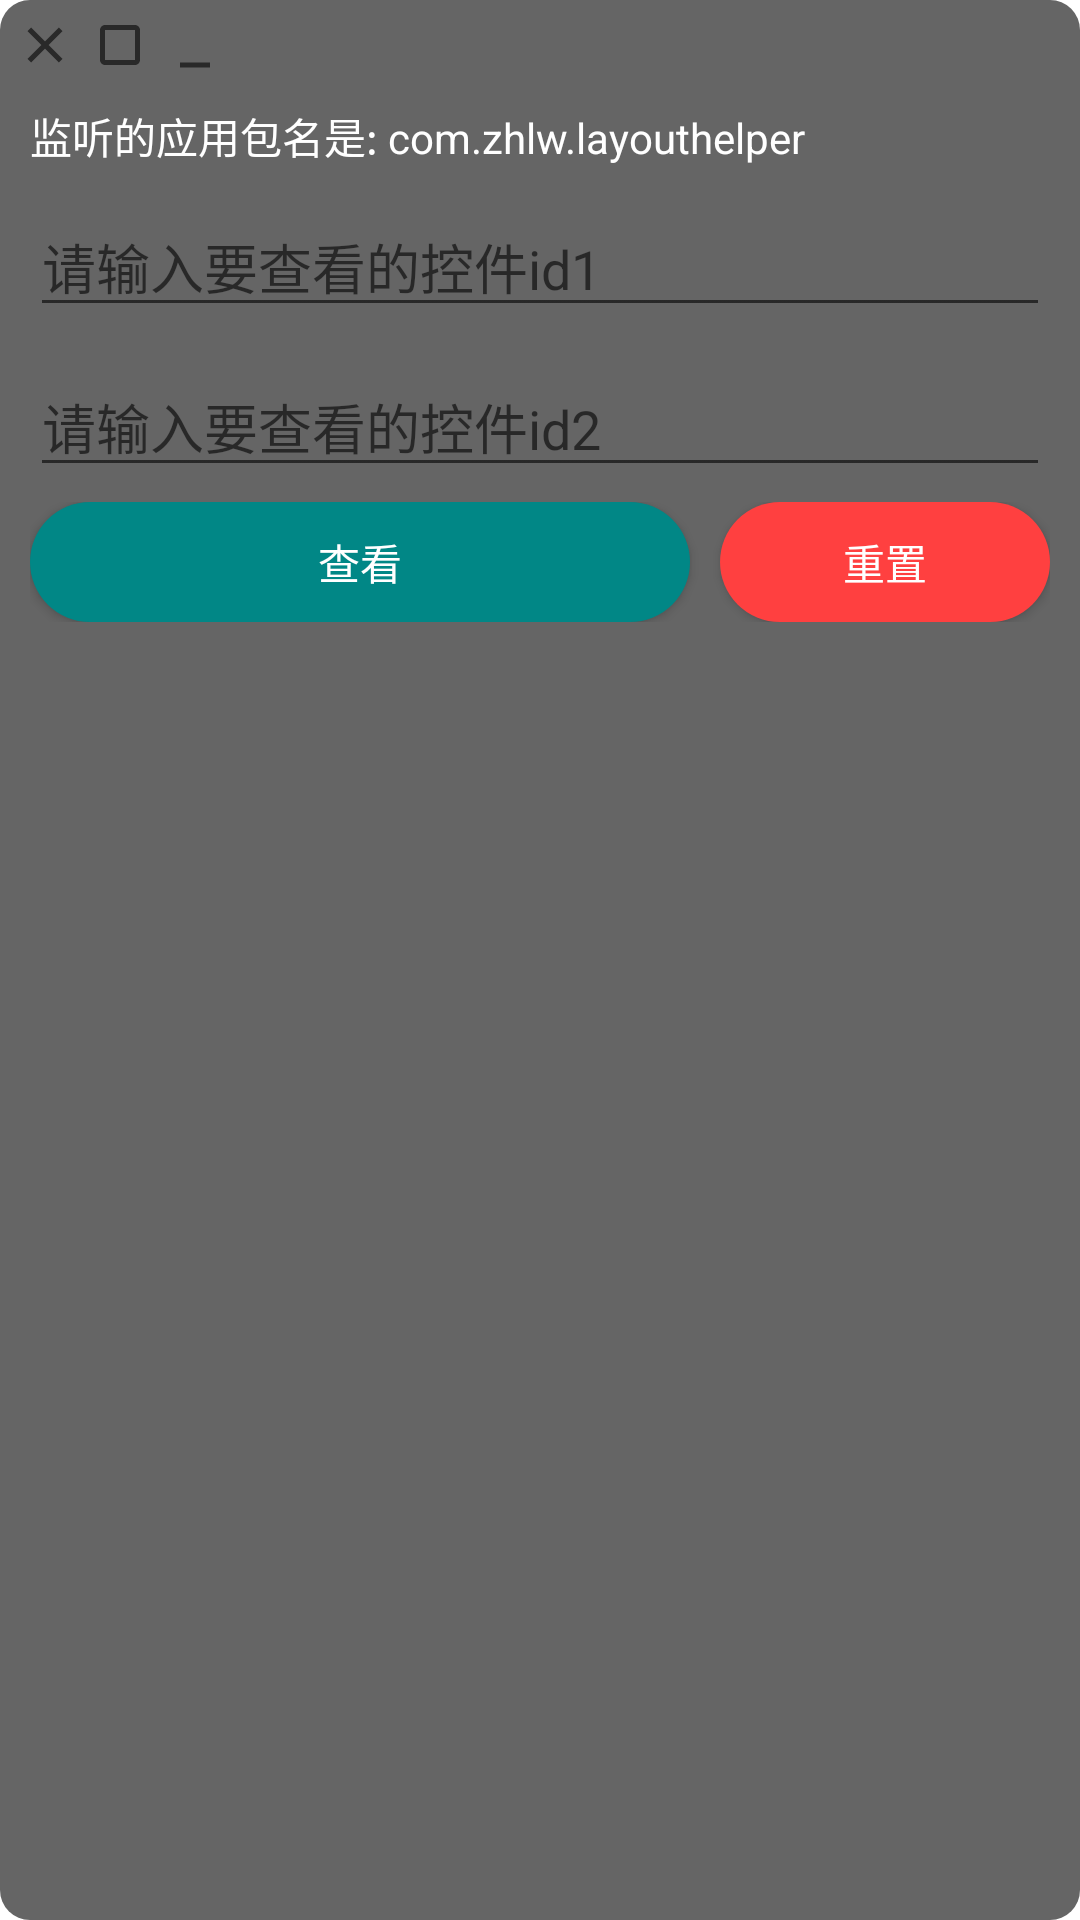

Where to tap for icons on this 1080×1920 app screen, as (x=x, y=y):
close: (x=45, y=45)
maximize: (x=120, y=45)
